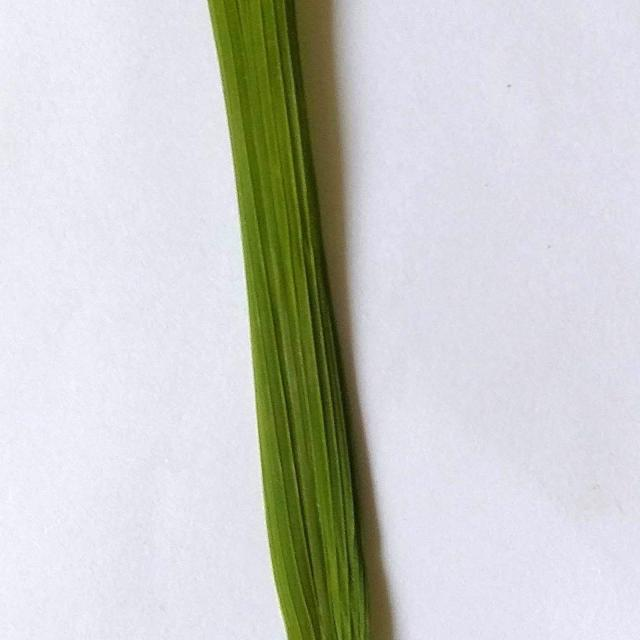healthy: (182, 0, 468, 640)
